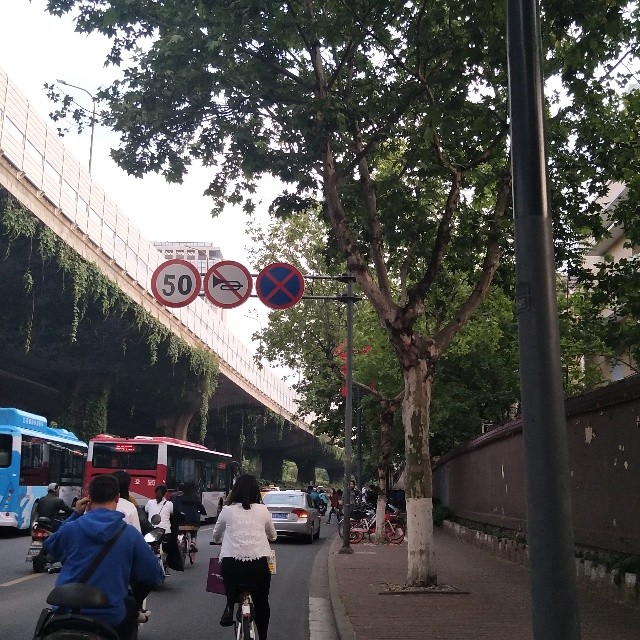nohonk: (209, 260, 251, 305)
stop: (255, 265, 304, 309)
